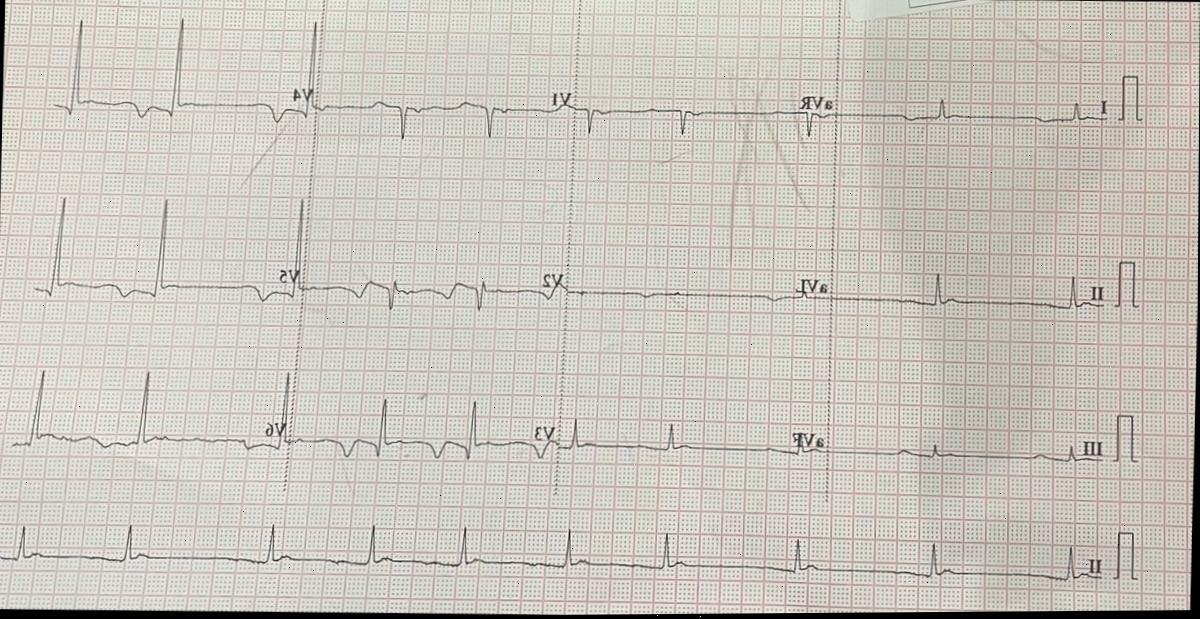Lead_I: (833, 80, 1114, 151)
Lead_II: (833, 261, 1111, 331)
Lead_III: (825, 415, 1110, 485)
Lead_II_ext: (0, 512, 1107, 595)
Lead_V1: (317, 68, 577, 151)
Lead_V2: (304, 245, 568, 323)
Lead_V3: (291, 384, 562, 487)
Lead_V4: (46, 3, 328, 144)
Lead_V5: (20, 183, 312, 322)
Lead_V6: (1, 351, 298, 479)
Lead_aVF: (556, 407, 826, 474)
Lead_aVL: (568, 250, 837, 318)
Lead_aVR: (572, 80, 835, 162)
